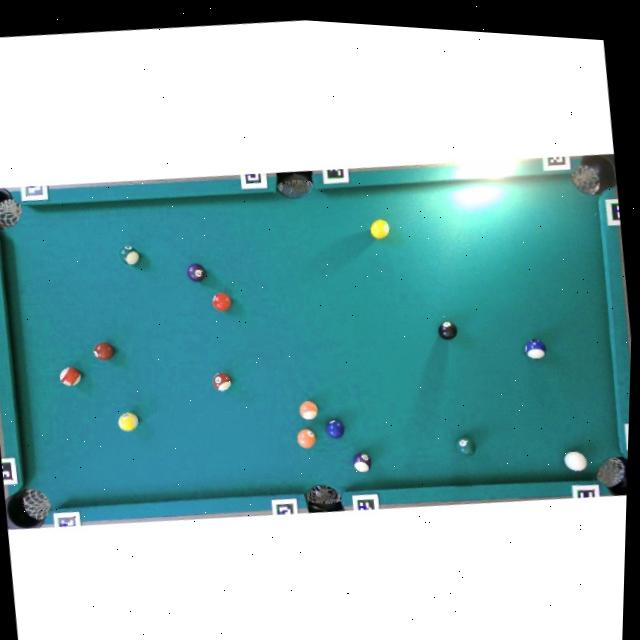cue ball: (562, 448, 588, 474)
other: (58, 364, 83, 388), (523, 337, 547, 361), (454, 433, 477, 458), (368, 216, 391, 240), (91, 339, 115, 362), (116, 410, 140, 433), (117, 243, 140, 267), (351, 449, 373, 474), (436, 319, 458, 342), (295, 426, 317, 449), (211, 370, 233, 392), (185, 261, 207, 283), (324, 417, 345, 440), (298, 399, 319, 421), (210, 291, 232, 312)
